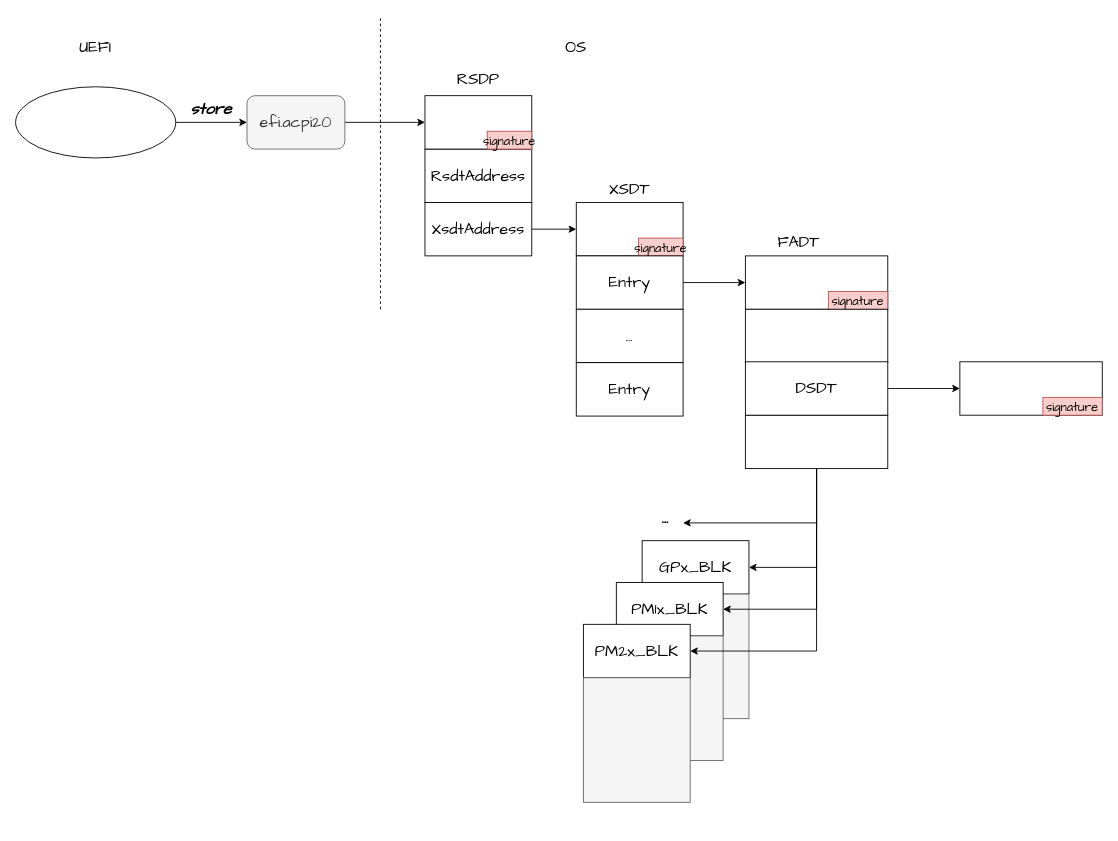
Image size: 1118x841. Some labels were removed from this diagram. Here are the shapes that lost their labels. From the top down, the box of each, then its label:
(15, 86, 176, 158): EFI ExitBootServices
(424, 95, 532, 149): “RSD PTR ”
(575, 202, 683, 256): “XSDT”
(744, 255, 888, 309): “FACP”
(744, 308, 888, 363): FIRMWARE_CTRL
(959, 361, 1102, 415): “DSDT”
(744, 414, 888, 469): BLKs
